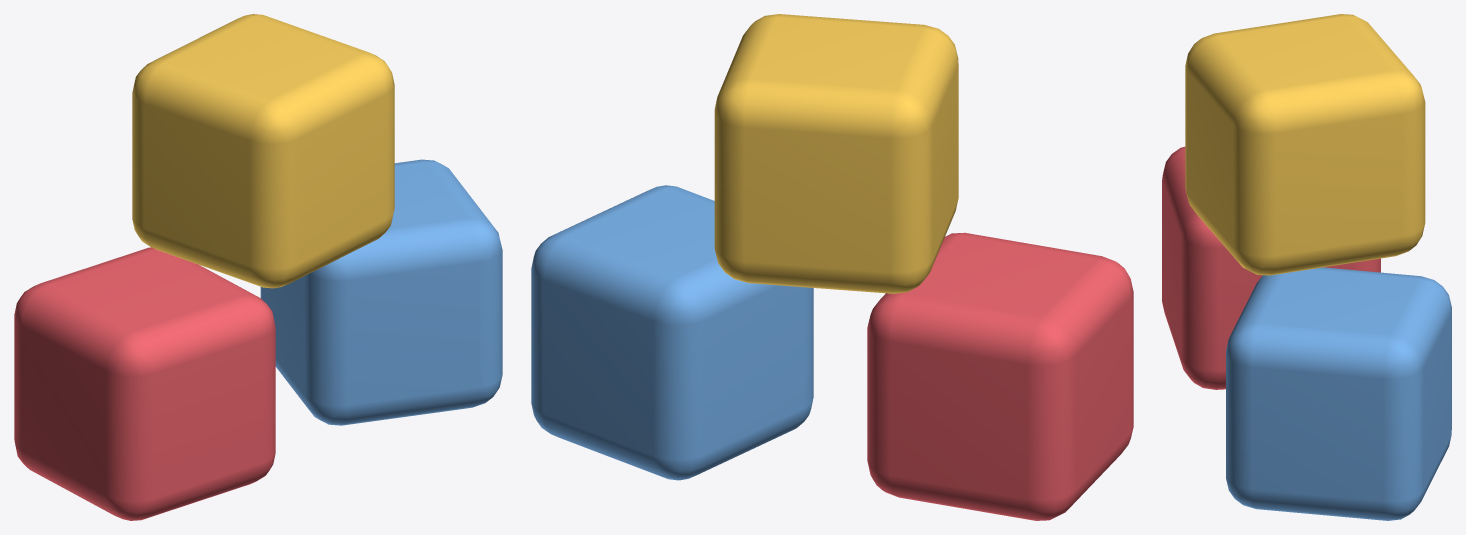
Rendered from toy_blocks.glb.
3 renders of one model, left to right at view 1: azimuth 30°, elevation 25°; view 2: azimuth 150°, elevation 25°; view 3: azimuth 270°, elevation 25°, orthographic. The views are drawn at different scales.
Parts seen in each view (by area): view 1: Block_2, Block_0, Block_1; view 2: Block_0, Block_2, Block_1; view 3: Block_2, Block_1, Block_0.
Boxes of the visible parts, x1,y1,x2,y2 form: Block_2: (132, 14, 394, 288); Block_0: (14, 247, 275, 520); Block_1: (260, 159, 502, 425); Block_0: (867, 232, 1133, 520); Block_2: (714, 14, 958, 293); Block_1: (531, 185, 813, 480); Block_2: (1185, 14, 1425, 275); Block_1: (1226, 267, 1451, 520); Block_0: (1162, 146, 1380, 389).
Bounding box in the file's own units: 1.57 × 1.2 × 0.8605.
